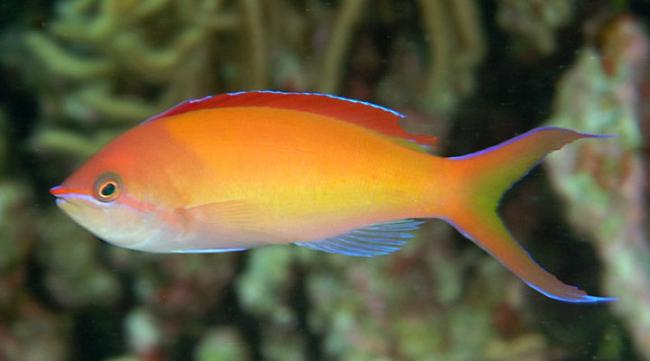fish: (49, 89, 619, 302)
